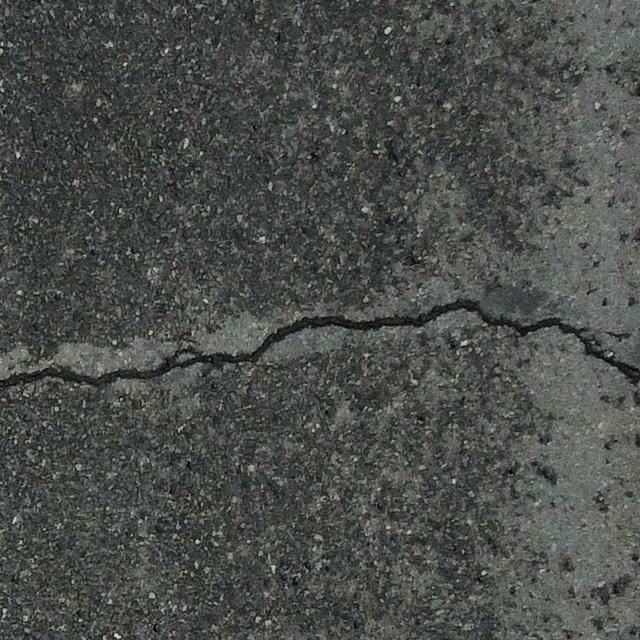TransverseCrack: (1, 299, 640, 388)
